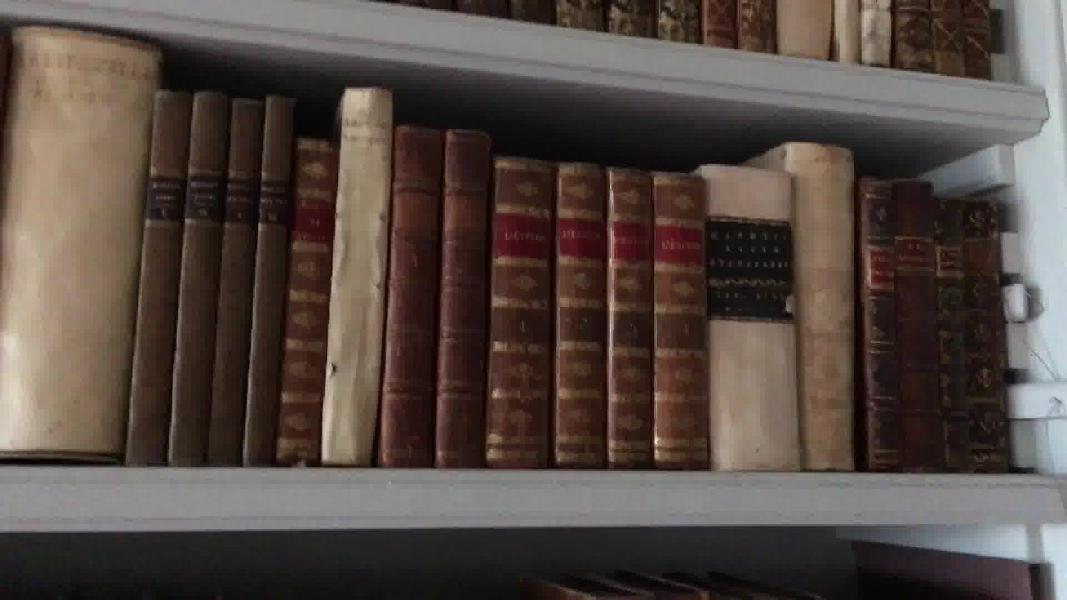Kk4-14: (6, 13, 162, 479)
Kk4-15_16: (119, 75, 229, 465)
Kk4-17_18: (200, 70, 297, 484)
Kk4-19: (271, 117, 340, 465)
Kk4-20: (315, 59, 397, 492)
Kk4-21_22: (375, 107, 498, 478)
Kk4-23_26: (479, 131, 719, 485)
Kk4-27: (685, 143, 808, 469)
Kk4-28: (778, 134, 867, 474)
Kk4-29: (852, 159, 906, 473)
Kk4-30: (889, 165, 947, 475)
Kk4-31: (929, 186, 974, 479)
Kk4-32: (963, 186, 1015, 473)
